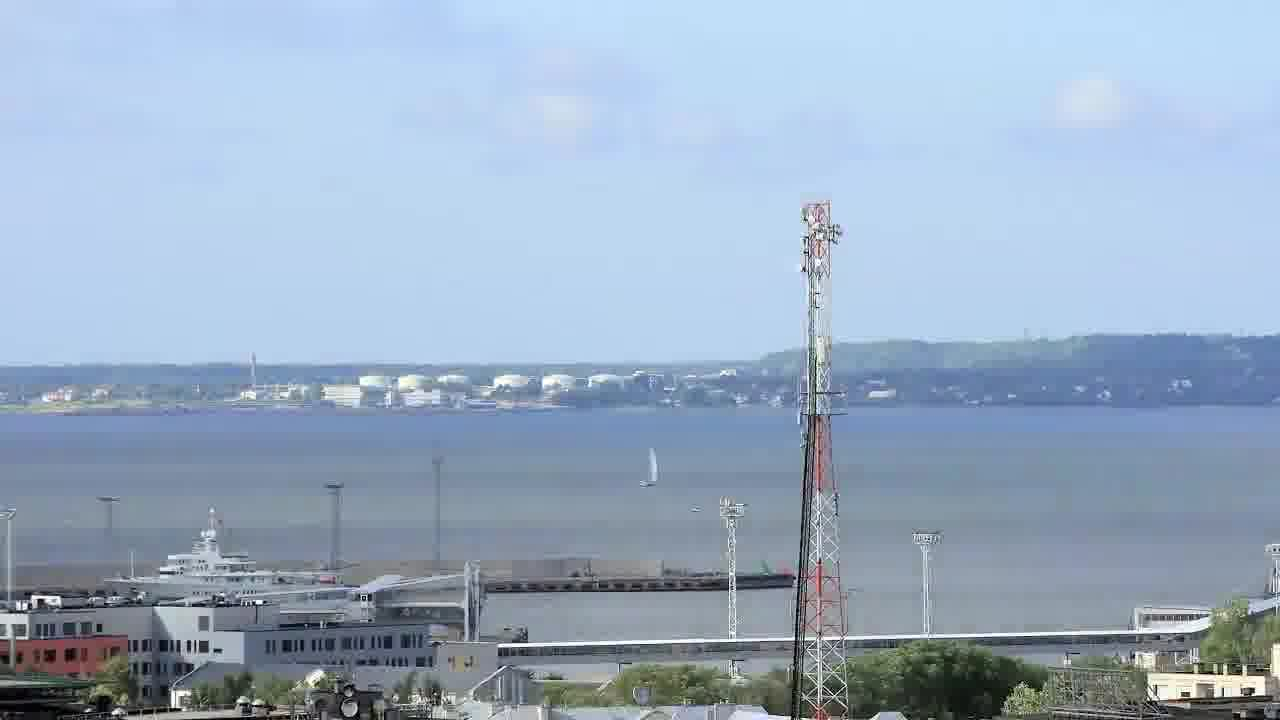type-2: (622, 432, 681, 498)
type-3: (84, 515, 355, 603)
